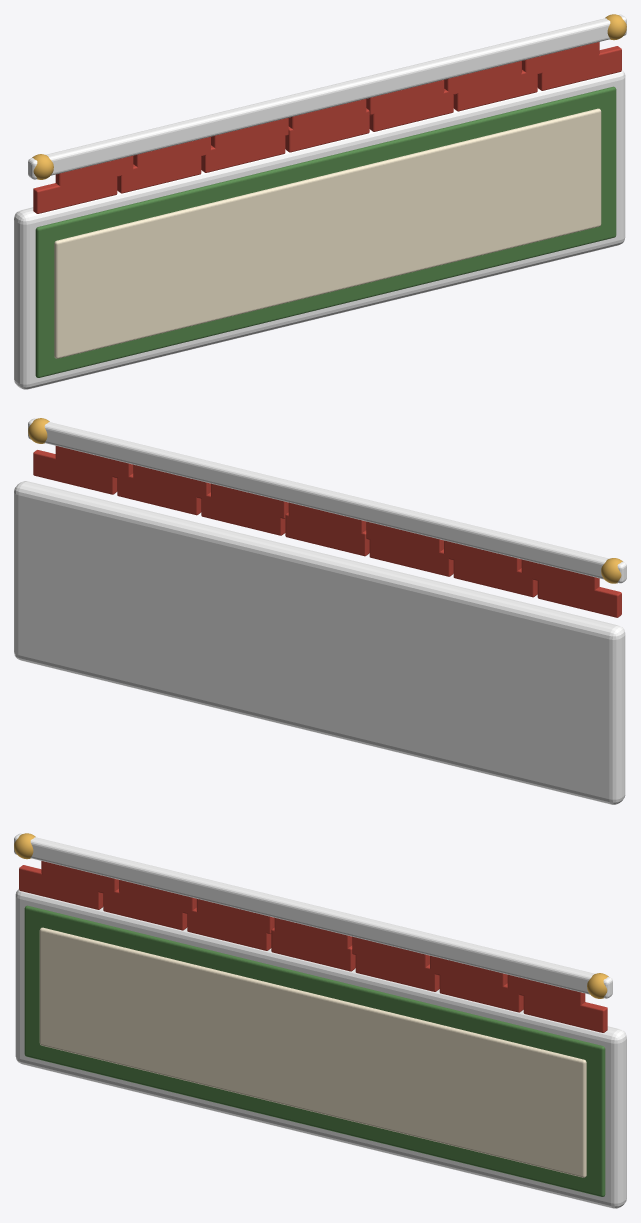
The model's file is ui-signboard.glb.
3 renders of one model, top to bottom at view 1: azimuth 30°, elevation 25°; view 2: azimuth 150°, elevation 25°; view 3: azimuth 330°, elevation 25°, orthographic.
Visible parts, largest first — view 1: UI · sign cream panel, UI · sign green field, UI · sign board, UI · sign ridge cap, UI · sign shingle 0-0, UI · sign shingle 0-6, UI · sign shingle 0-3, UI · sign shingle 0-5, UI · sign shingle 0-1, UI · sign shingle 0-4, UI · sign shingle 0-2, UI · sign shingle 1-2 (+6 smaller); view 2: UI · sign board, UI · sign ridge cap, UI · sign shingle 0-0, UI · sign shingle 0-6, UI · sign shingle 0-3, UI · sign shingle 0-1, UI · sign shingle 0-4, UI · sign shingle 0-2, UI · sign shingle 0-5, UI · sign shingle 1-5, UI · sign shingle 1-3, UI · sign shingle 1-6 (+4 smaller); view 3: UI · sign cream panel, UI · sign green field, UI · sign board, UI · sign ridge cap, UI · sign shingle 0-6, UI · sign shingle 0-0, UI · sign shingle 0-3, UI · sign shingle 0-2, UI · sign shingle 0-5, UI · sign shingle 0-4, UI · sign shingle 0-1, UI · sign shingle 1-1 (+6 smaller).
Boxes of the visible parts, x1=… form: UI · sign cream panel: x1=54, y1=108, x2=601, y2=358; UI · sign green field: x1=35, y1=86, x2=616, y2=377; UI · sign board: x1=14, y1=70, x2=625, y2=389; UI · sign ridge cap: x1=28, y1=14, x2=626, y2=179; UI · sign shingle 0-0: x1=33, y1=173, x2=117, y2=213; UI · sign shingle 0-6: x1=537, y1=46, x2=621, y2=90; UI · sign shingle 0-3: x1=285, y1=108, x2=369, y2=152; UI · sign shingle 0-5: x1=453, y1=70, x2=537, y2=111; UI · sign shingle 0-1: x1=117, y1=153, x2=201, y2=193; UI · sign shingle 0-4: x1=369, y1=89, x2=453, y2=131; UI · sign shingle 0-2: x1=201, y1=133, x2=285, y2=172; UI · sign shingle 1-2: x1=211, y1=117, x2=288, y2=151; UI · sign board: x1=14, y1=481, x2=625, y2=804; UI · sign ridge cap: x1=28, y1=418, x2=626, y2=583; UI · sign shingle 0-0: x1=537, y1=577, x2=621, y2=617; UI · sign shingle 0-6: x1=33, y1=450, x2=117, y2=494; UI · sign shingle 0-3: x1=285, y1=512, x2=369, y2=556; UI · sign shingle 0-1: x1=453, y1=557, x2=537, y2=597; UI · sign shingle 0-4: x1=201, y1=492, x2=285, y2=535; UI · sign shingle 0-2: x1=369, y1=536, x2=453, y2=576; UI · sign shingle 0-5: x1=117, y1=473, x2=201, y2=515; UI · sign shingle 1-5: x1=133, y1=464, x2=210, y2=498; UI · sign shingle 1-3: x1=288, y1=502, x2=366, y2=536; UI · sign shingle 1-6: x1=55, y1=446, x2=133, y2=479; UI · sign cream panel: x1=39, y1=927, x2=586, y2=1177; UI · sign green field: x1=24, y1=905, x2=605, y2=1196; UI · sign board: x1=15, y1=889, x2=626, y2=1208; UI · sign ridge cap: x1=14, y1=833, x2=612, y2=998; UI · sign shingle 0-6: x1=523, y1=992, x2=607, y2=1032; UI · sign shingle 0-0: x1=19, y1=865, x2=103, y2=909; UI · sign shingle 0-3: x1=271, y1=927, x2=355, y2=971; UI · sign shingle 0-2: x1=187, y1=908, x2=271, y2=950; UI · sign shingle 0-5: x1=439, y1=972, x2=523, y2=1012; UI · sign shingle 0-4: x1=355, y1=952, x2=439, y2=991; UI · sign shingle 0-1: x1=103, y1=889, x2=187, y2=930; UI · sign shingle 1-1: x1=119, y1=880, x2=196, y2=913.
Size of the model in its own units: 5.4 by 2.01 by 0.31.
